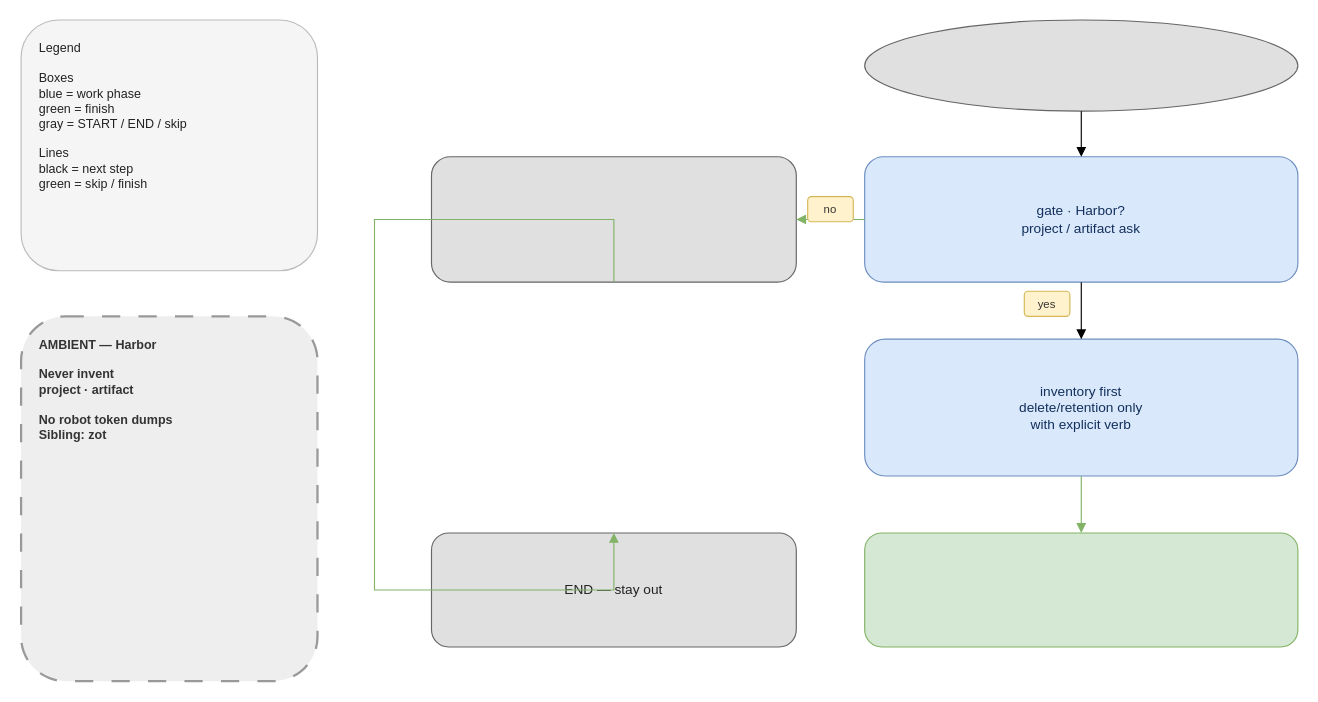
Image size: 1318x702. Some labels were removed from this diagram. The shapes that lost their labels are listed below. From the top down, each one's centre as x and y in pixels, then its label:
the point at 1081,65: START — user ask
the point at 613,219: skip — no Harbor ordinary coding
the point at 1081,589: END — project + repo + digest
